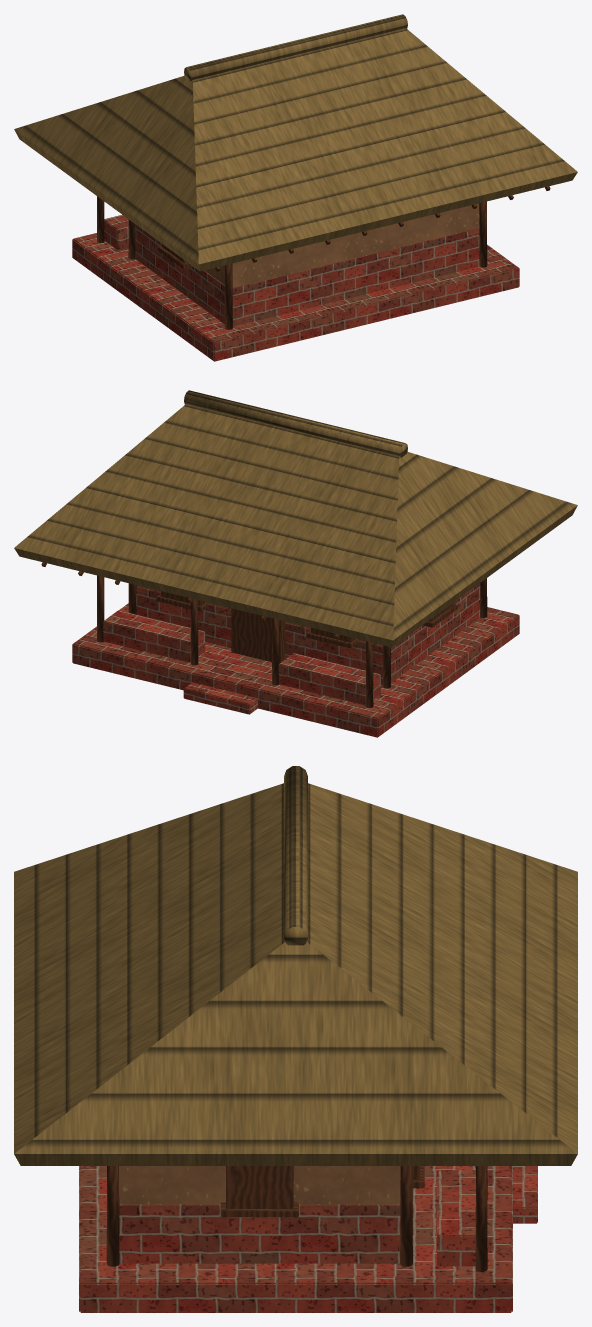
Rendered from farmer_chala.glb.
The picture shows the model from 3 angles, top to bottom: view 1: azimuth 30°, elevation 25°; view 2: azimuth 150°, elevation 25°; view 3: azimuth 270°, elevation 25°; orthographic projection. The views are drawn at different scales.
Parts seen in each view (by area): view 1: farmer_chala; view 2: farmer_chala; view 3: farmer_chala.
Boxes of the visible parts, x1,y1,x2,y2 form: farmer_chala: [14, 14, 577, 361]; farmer_chala: [14, 390, 577, 737]; farmer_chala: [14, 766, 577, 1312].
Size of the model in its own units: 8.85 by 5.16 by 7.48.
Materials: 6 (6 with a texture image).
